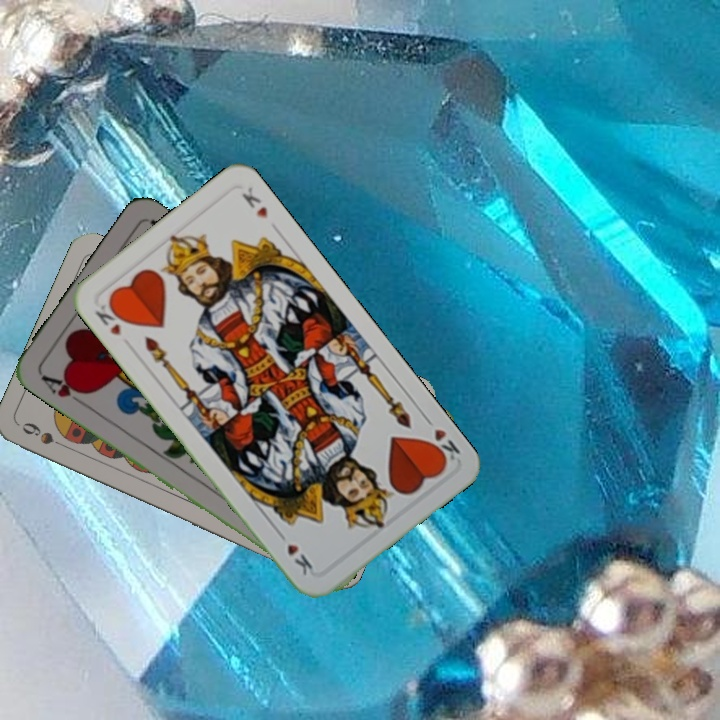HA: (36, 370, 91, 409)
HK: (423, 424, 463, 467), (91, 297, 129, 339)
S9: (17, 418, 73, 452)
